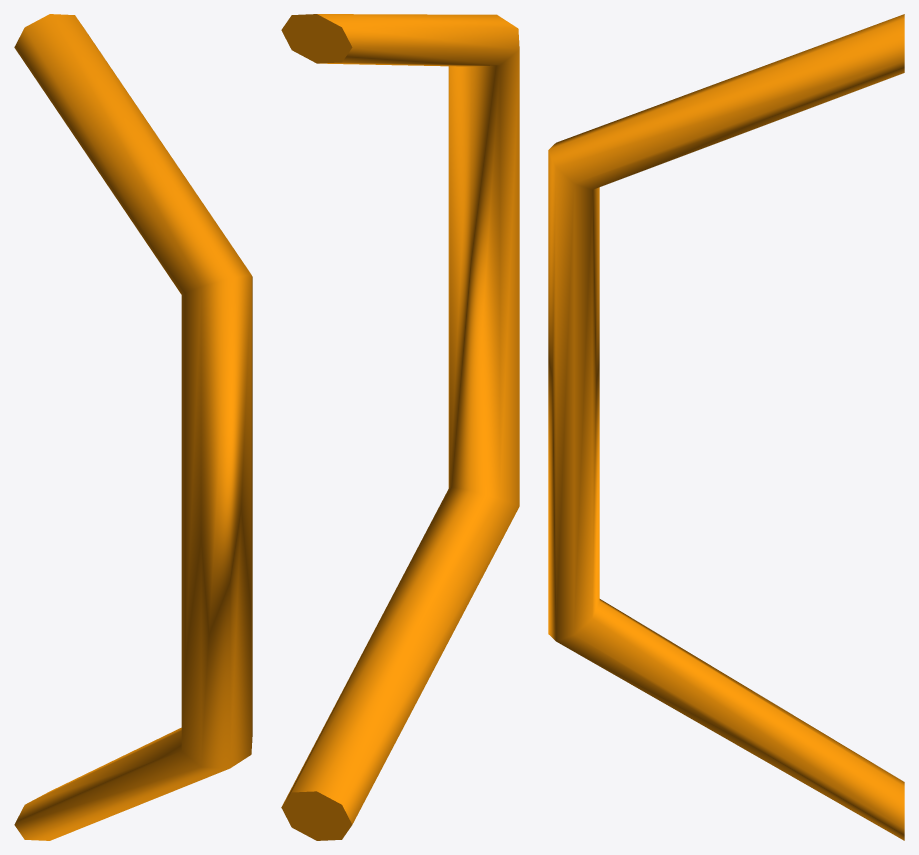
Rendered from Bow.obj.
3 views of the same model, side by side, from view 1: azimuth 30°, elevation 25°; view 2: azimuth 150°, elevation 25°; view 3: azimuth 270°, elevation 25° (orthographic).
Parts seen in each view (by area): view 1: Bow; view 2: Bow; view 3: Bow.
Boxes of the visible parts, left/top/right/bottom form: Bow: left=14, top=14, right=252, bottom=840; Bow: left=281, top=14, right=519, bottom=840; Bow: left=548, top=14, right=904, bottom=840.
Bounding box in the file's own units: 0.09 × 1 × 0.3951.
